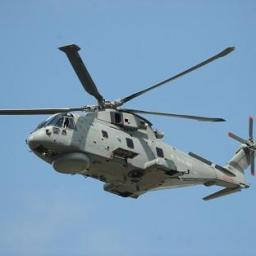helicopter: (3, 45, 256, 207)
